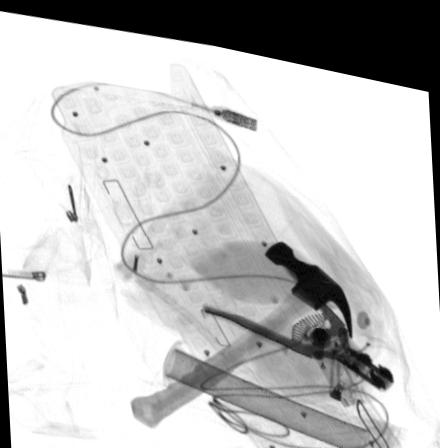Hammer: (130, 227, 352, 421)
Pliers: (202, 232, 395, 376)
